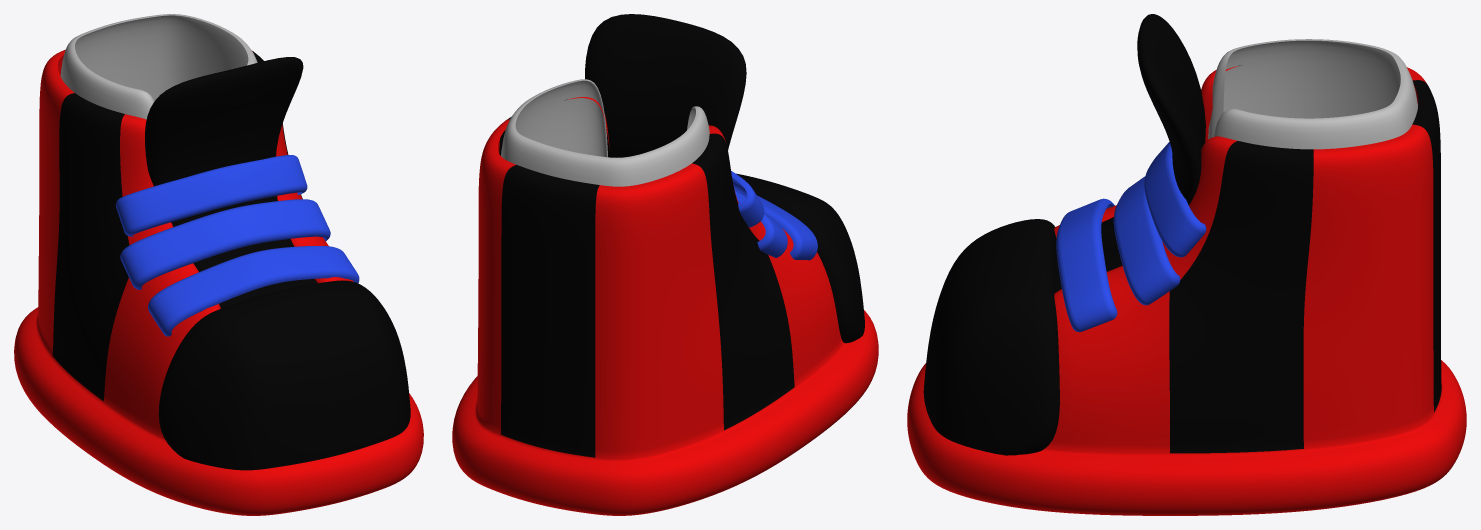
Rendered from Bota.fbx.
3 views of the same model, side by side, from view 1: azimuth 30°, elevation 25°; view 2: azimuth 150°, elevation 25°; view 3: azimuth 270°, elevation 25° (orthographic). The views are drawn at different scales.
Parts seen in each view (by area): view 1: botin, suela delante, lengueta, calcetines, cordon1, cordon2, cordon3; view 2: botin, lengueta, calcetines, suela delante, cordon2, cordon3, cordon1; view 3: botin, suela delante, calcetines, lengueta, cordon2, cordon1, cordon3.
Boxes of the visible parts, x1,y1,x2,y2 form: botin: (14, 49, 423, 515); suela delante: (158, 280, 410, 470); lengueta: (145, 57, 317, 308); calcetines: (60, 14, 257, 119); cordon1: (120, 199, 330, 289); cordon2: (148, 246, 359, 336); cordon3: (115, 155, 307, 236); botin: (452, 97, 878, 515); lengueta: (585, 14, 746, 157); calcetines: (501, 79, 709, 186); suela delante: (736, 173, 864, 343); cordon2: (735, 191, 817, 260); cordon3: (731, 171, 764, 227); cordon1: (736, 195, 787, 257); botin: (907, 65, 1466, 515); suela delante: (923, 219, 1059, 455); calcetines: (1208, 39, 1417, 149); lengueta: (1053, 14, 1205, 291); cordon2: (1056, 198, 1117, 332); cordon1: (1113, 176, 1180, 305); cordon3: (1144, 142, 1206, 257).
Bounding box in the file's own units: 238 × 289 × 357.
